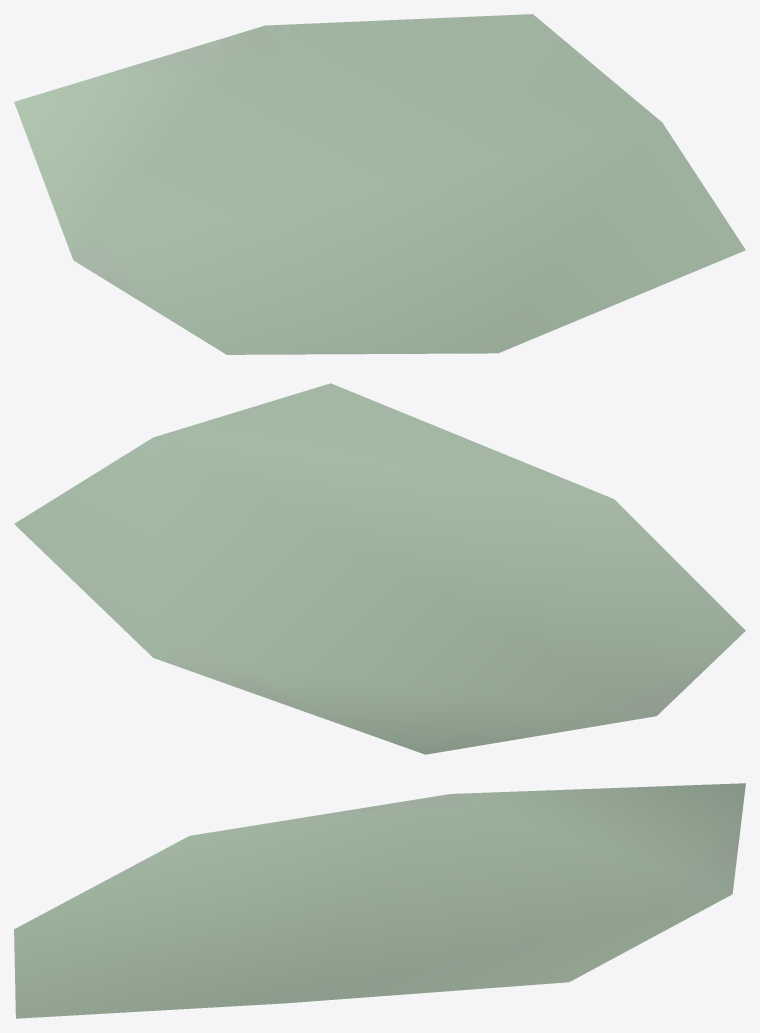
The model's file is TROLLHOLE02_HOLECAP183.fbx.
The picture shows the model from 3 angles, top to bottom: view 1: azimuth 30°, elevation 25°; view 2: azimuth 150°, elevation 25°; view 3: azimuth 270°, elevation 25°; orthographic projection. The views are drawn at different scales.
Visible parts, largest first — view 1: TROLLHOLE02_HOLECAP183; view 2: TROLLHOLE02_HOLECAP183; view 3: TROLLHOLE02_HOLECAP183.
Boxes of the visible parts, <box> form: TROLLHOLE02_HOLECAP183: <box>14,14,745,354</box>; TROLLHOLE02_HOLECAP183: <box>14,383,745,754</box>; TROLLHOLE02_HOLECAP183: <box>14,783,745,1018</box>.
Bounding box in the file's own units: 23097 × 4345 × 25226.
1 material, 1 textured.
